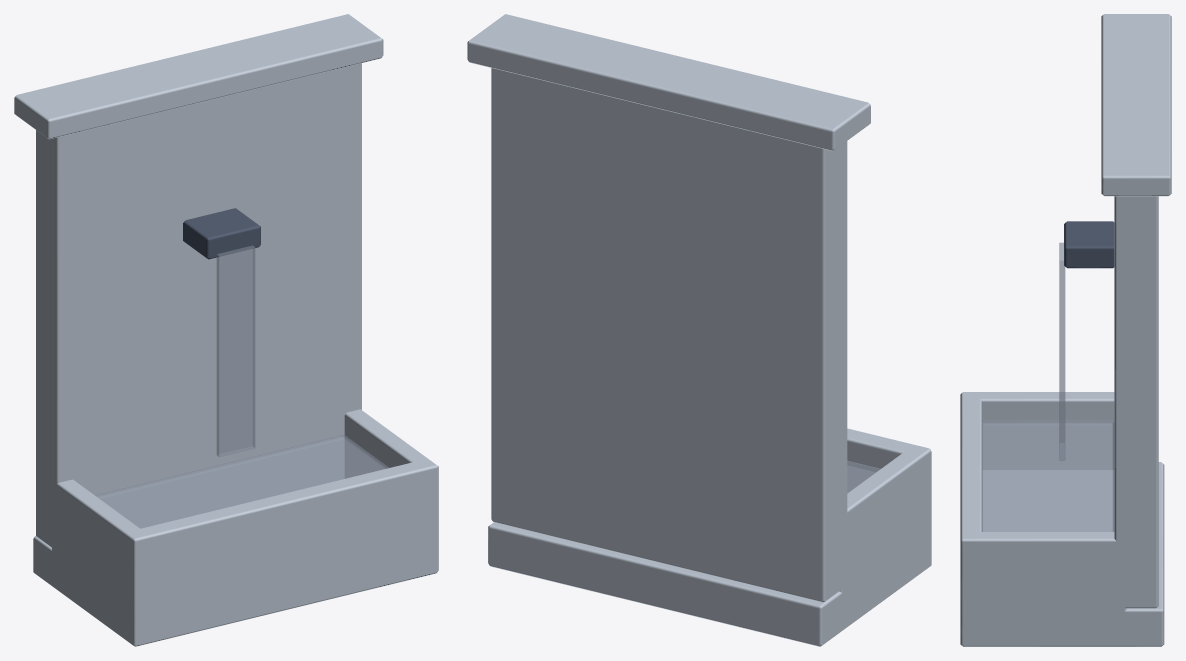
The model's file is garden-fountain-wall-lite.glb.
The picture shows the model from 3 angles, left to right: view 1: azimuth 30°, elevation 25°; view 2: azimuth 150°, elevation 25°; view 3: azimuth 270°, elevation 25°; orthographic projection. The views are drawn at different scales.
Parts seen in each view (by area): view 1: garden-fountain-wall; view 2: garden-fountain-wall; view 3: garden-fountain-wall.
Part boxes in pixels (left/top/right/bottom): garden-fountain-wall: left=14, top=14, right=438, bottom=646; garden-fountain-wall: left=467, top=14, right=931, bottom=646; garden-fountain-wall: left=960, top=14, right=1171, bottom=646.
Size of the model in its own units: 1.1 by 1.5 by 0.6.
